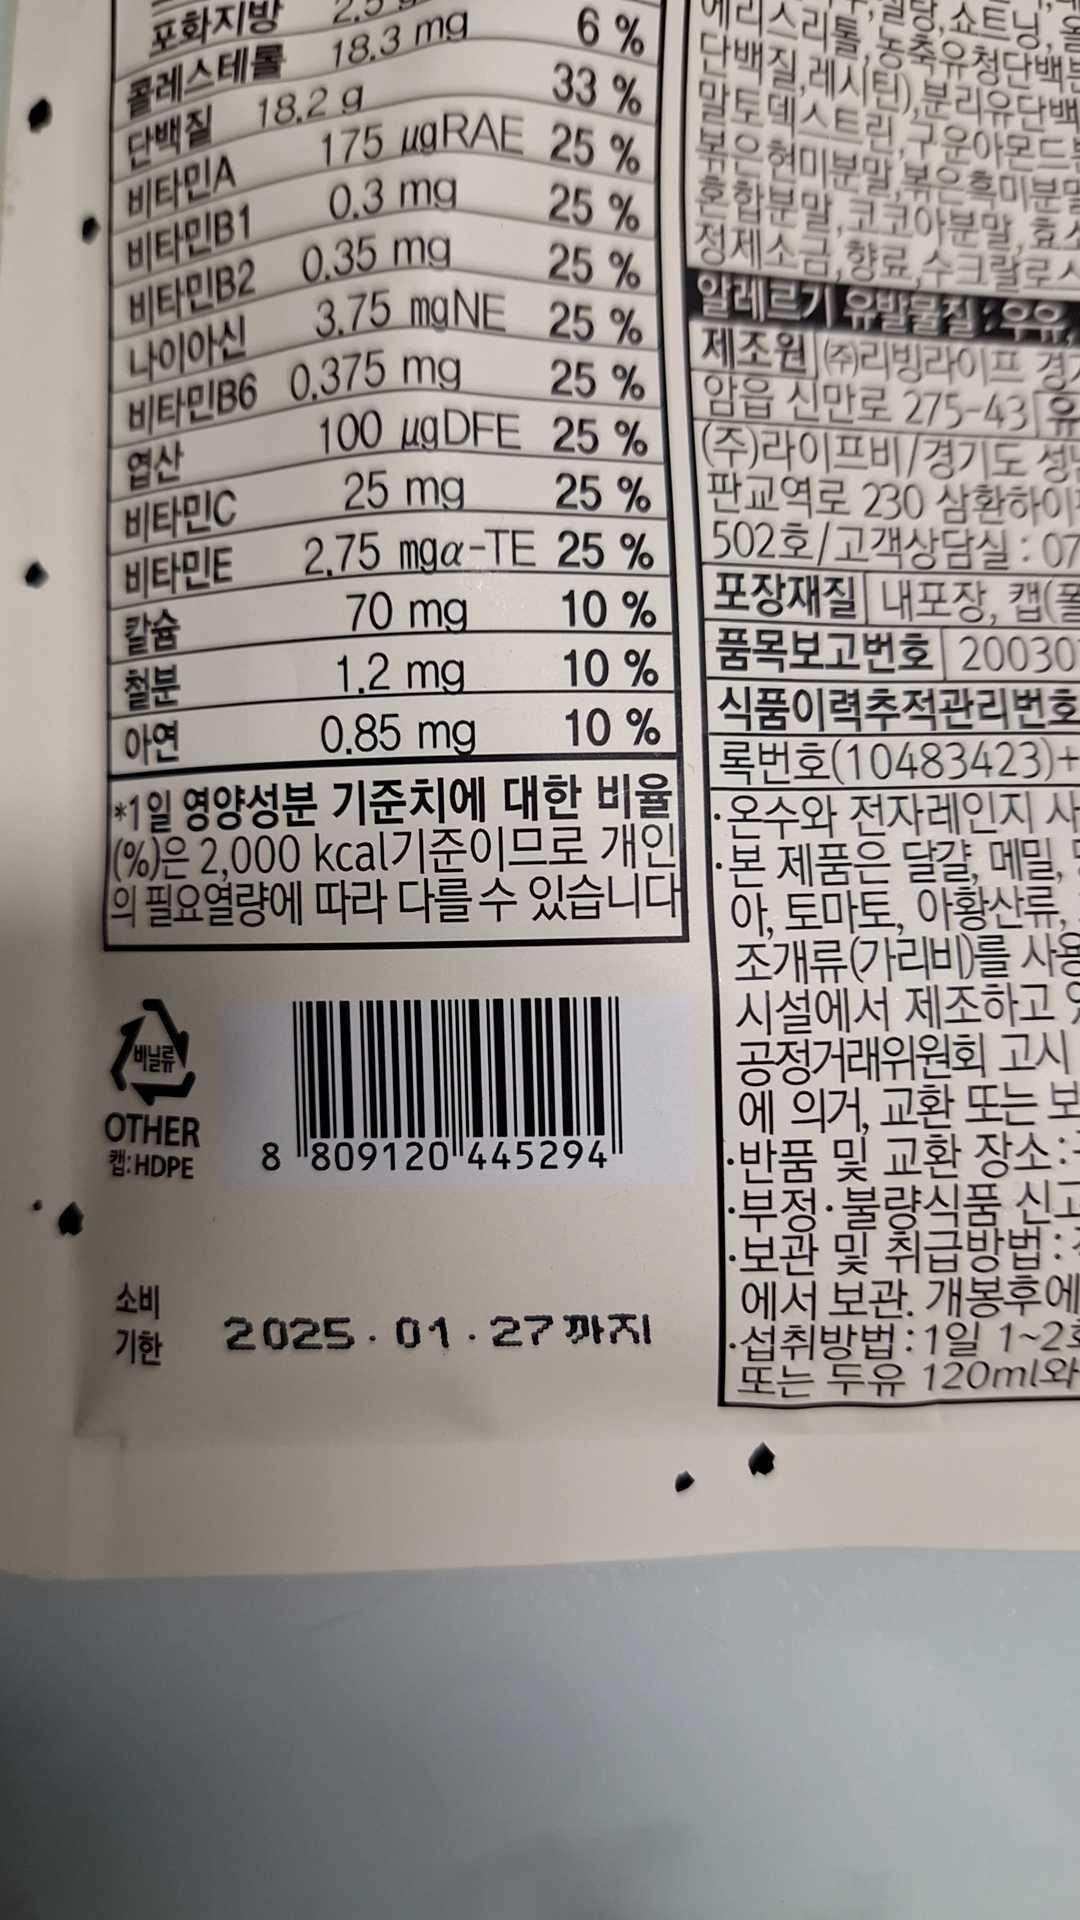milk-2800-2024-9-20: (252, 996, 630, 1172)
